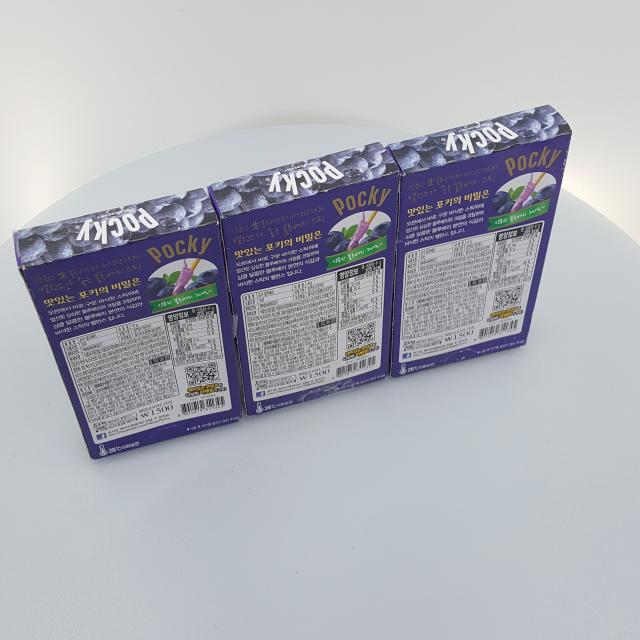-41G: (13, 189, 243, 461), (208, 143, 401, 418), (385, 106, 573, 380)
